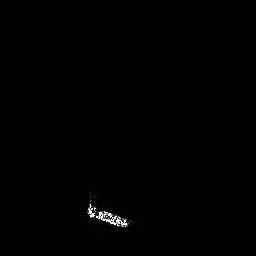ship: (83, 190, 133, 231)
